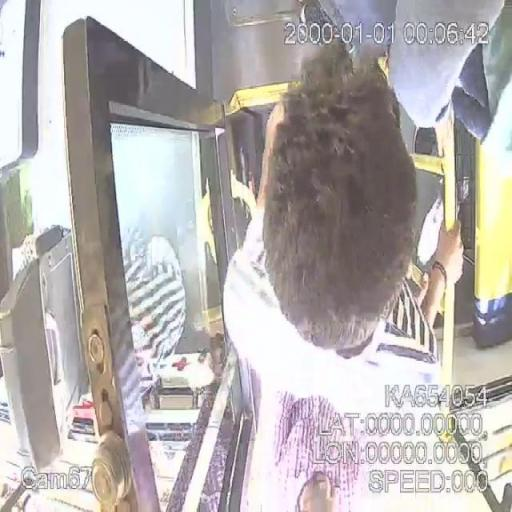persona: (218, 38, 472, 412), (258, 385, 372, 512)
